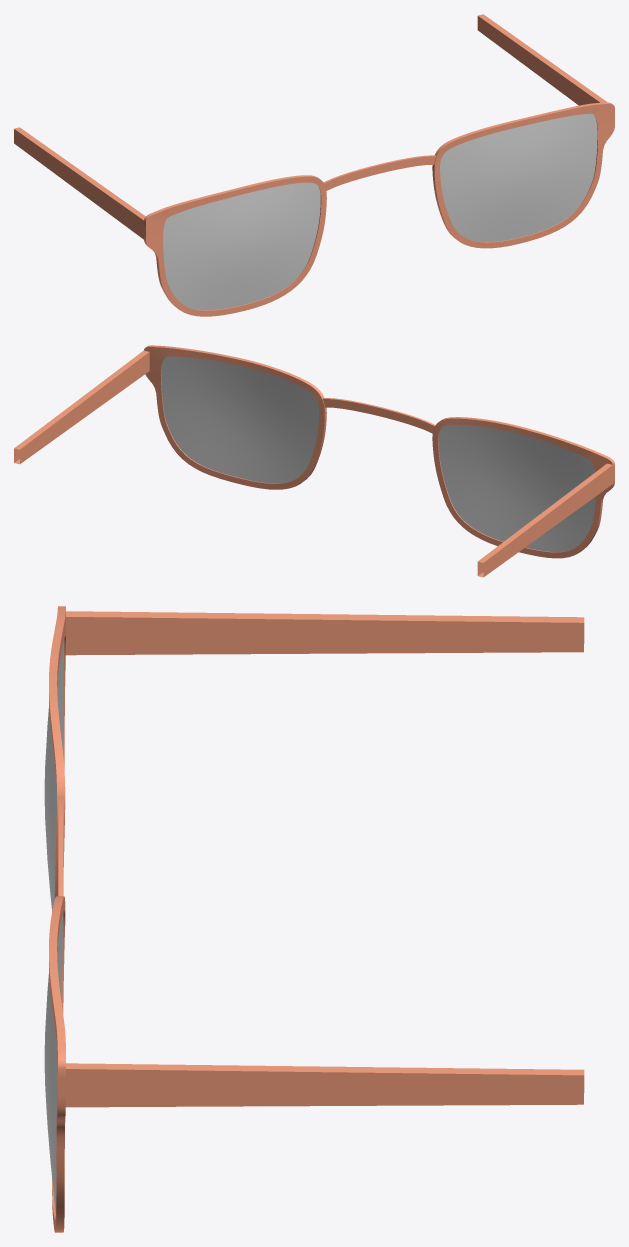
File: PRADA Glasses Wide Full Res Cutoff.fbx
The picture shows the model from 3 angles, top to bottom: view 1: azimuth 30°, elevation 25°; view 2: azimuth 150°, elevation 25°; view 3: azimuth 270°, elevation 25°; orthographic projection. The views are drawn at different scales.
Parts seen in each view (by area): view 1: PRADA Glasses Wide Full Res Cutoff; view 2: PRADA Glasses Wide Full Res Cutoff; view 3: PRADA Glasses Wide Full Res Cutoff.
Boxes of the visible parts, x1,y1,x2,y2 form: PRADA Glasses Wide Full Res Cutoff: [14, 14, 614, 316]; PRADA Glasses Wide Full Res Cutoff: [14, 345, 614, 577]; PRADA Glasses Wide Full Res Cutoff: [44, 606, 584, 1232].
Size of the model in its own units: 0.1874 by 0.0471 by 0.0933.
